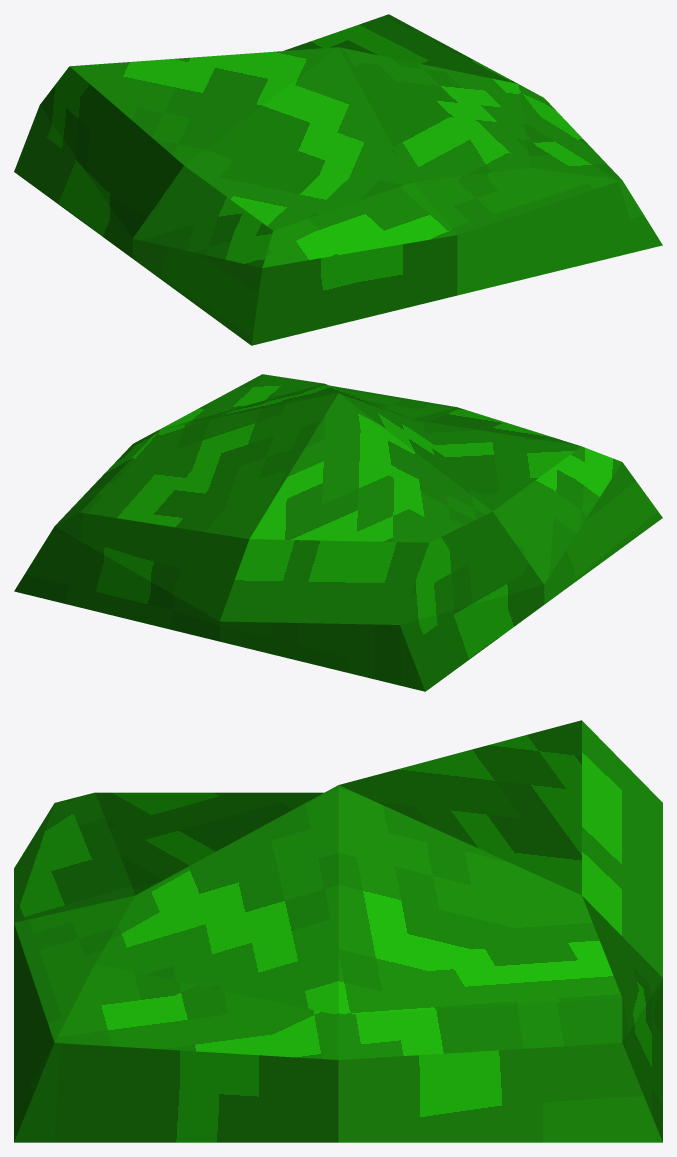
Rendered from skurge.fbx.
3 views of the same model, one above another, from view 1: azimuth 30°, elevation 25°; view 2: azimuth 150°, elevation 25°; view 3: azimuth 270°, elevation 25° (orthographic). The views are drawn at different scales.
Visible parts, largest first — view 1: cuboid; view 2: cuboid; view 3: cuboid.
Boxes of the visible parts, bbox=[...] form: cuboid: bbox=[14, 14, 662, 345]; cuboid: bbox=[14, 374, 662, 691]; cuboid: bbox=[14, 720, 662, 1142].
Bounding box in the file's own units: 100 × 37.5 × 100.
Materials: 1 (1 with a texture image).
